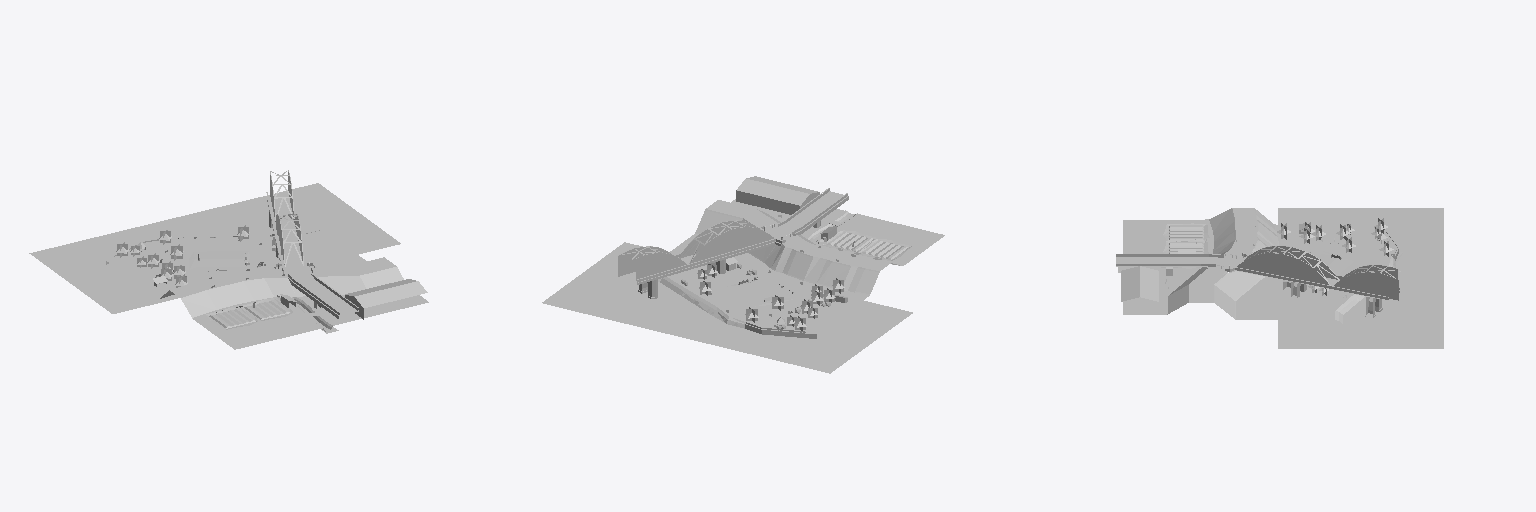
The model's file is riverbank2_1.obj.
3 renders of one model, left to right at view 1: azimuth 30°, elevation 25°; view 2: azimuth 150°, elevation 25°; view 3: azimuth 270°, elevation 25°, orthographic.
Visible parts, largest first — view 1: riverbank2; view 2: riverbank2; view 3: riverbank2.
Part boxes in pixels (left/top/right/bottom): riverbank2: left=29, top=170, right=428, bottom=349; riverbank2: left=542, top=176, right=944, bottom=373; riverbank2: left=1116, top=208, right=1443, bottom=348.
Size of the model in its own units: 100 by 15.77 by 98.51.